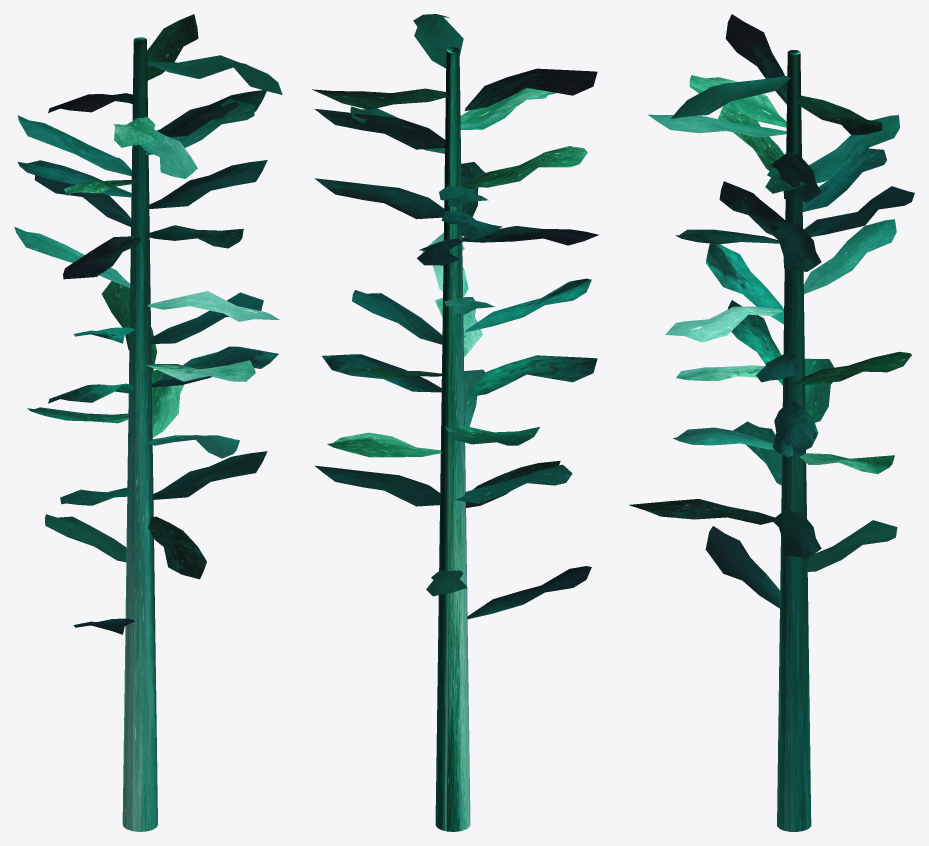
The model's file is Seaweed_1.fbx.
The picture shows the model from 3 angles, left to right: view 1: azimuth 30°, elevation 25°; view 2: azimuth 150°, elevation 25°; view 3: azimuth 270°, elevation 25°; orthographic projection.
Visible parts, largest first — view 1: Seawwd_1; view 2: Seawwd_1; view 3: Seawwd_1.
Boxes of the visible parts, <box> form: Seawwd_1: <box>14,14,282,831</box>; Seawwd_1: <box>312,14,598,831</box>; Seawwd_1: <box>629,14,914,831</box>.
Bounding box in the file's own units: 53.24 × 158 × 53.05.
1 material, 1 textured.
